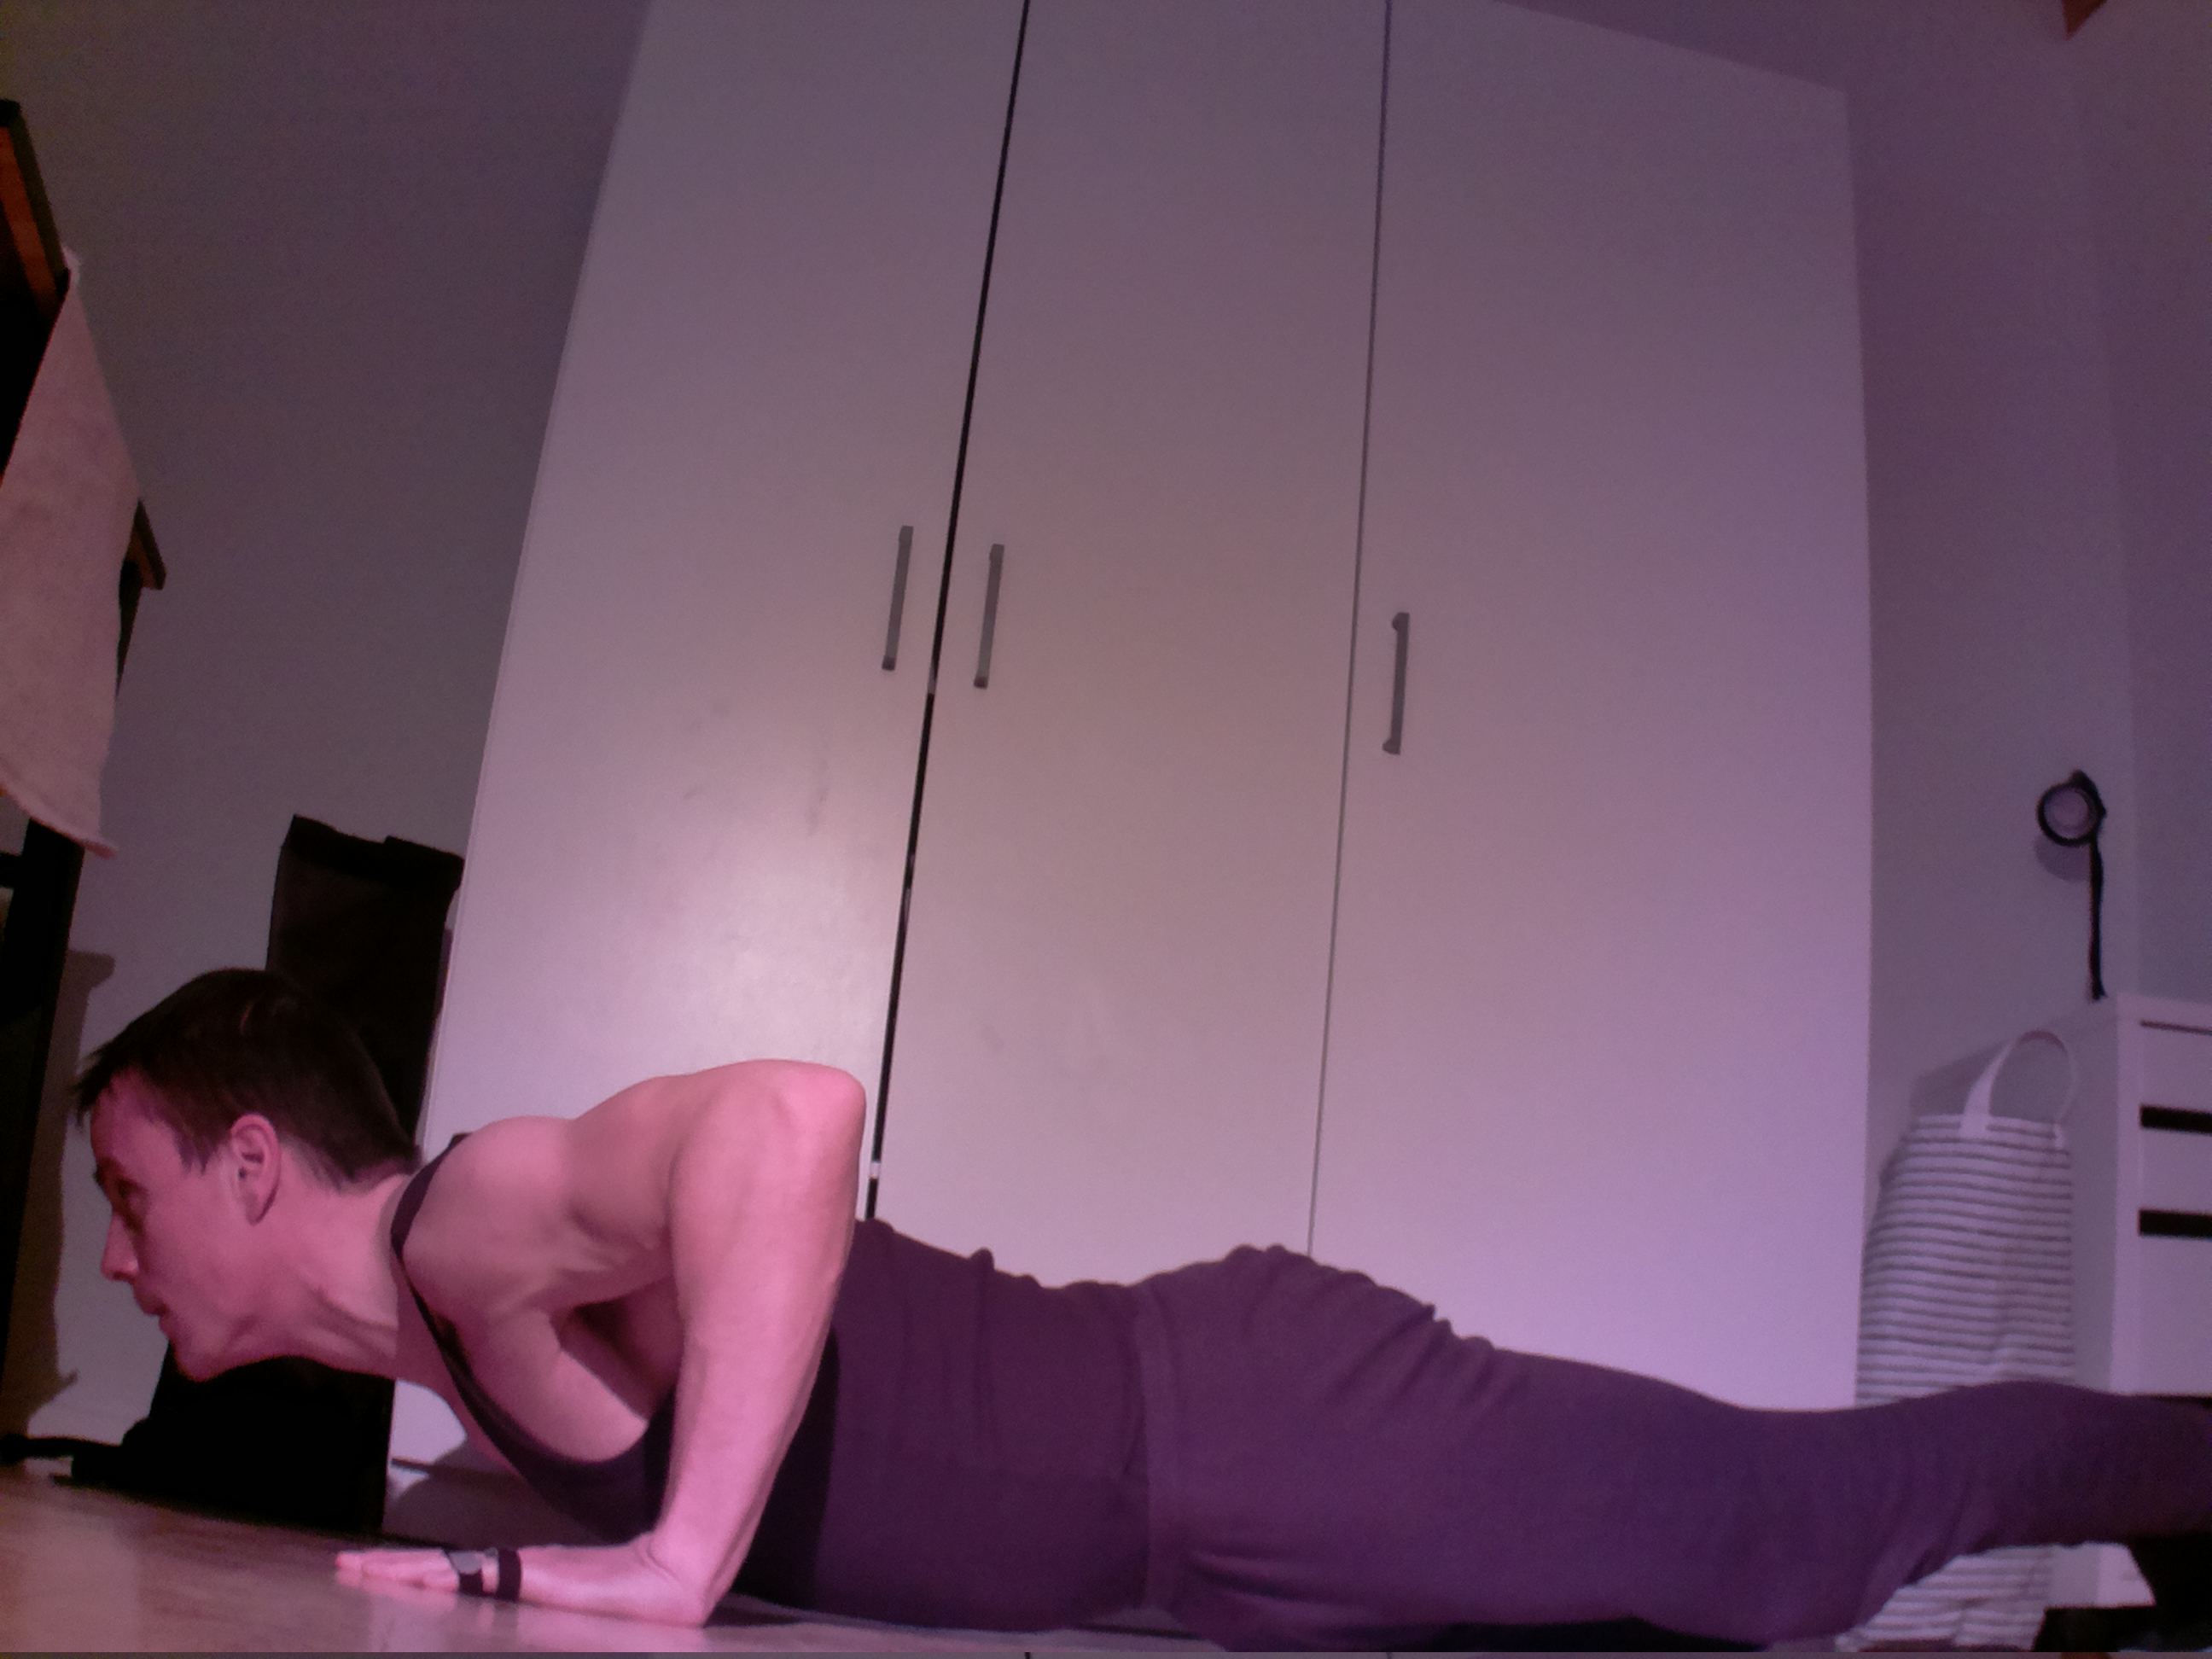CONAN: (59, 955, 1372, 1650)
